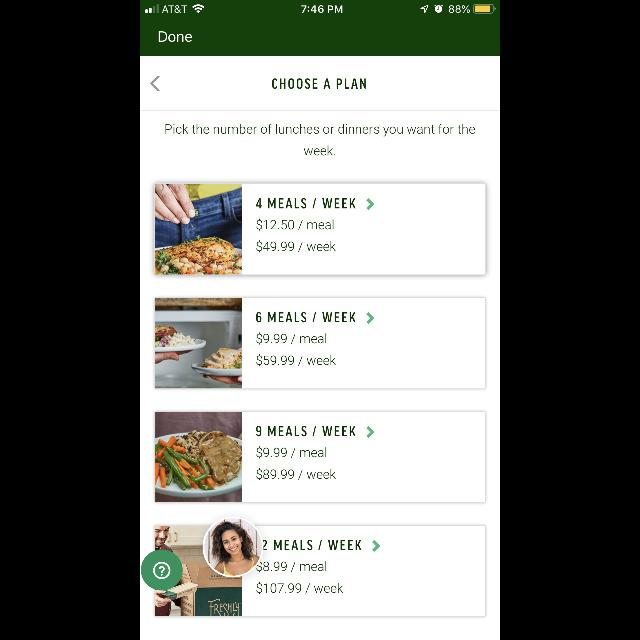icon: (141, 550, 183, 590), (150, 77, 160, 91), (366, 198, 374, 210), (366, 312, 374, 324), (366, 426, 374, 438), (372, 540, 380, 552)
image: (154, 184, 242, 274), (154, 412, 242, 502), (154, 526, 242, 616), (156, 298, 242, 388), (204, 516, 264, 578)
text: (167, 124, 476, 156), (272, 78, 366, 90), (257, 582, 343, 594), (256, 198, 356, 208), (256, 312, 356, 322), (256, 426, 356, 436), (263, 540, 361, 550), (256, 241, 336, 253), (256, 354, 336, 366), (256, 468, 336, 480), (256, 219, 334, 231), (256, 333, 326, 345), (256, 447, 326, 459), (256, 562, 326, 572), (160, 32, 192, 42)
uppertaskbar: (140, 0, 500, 14)
